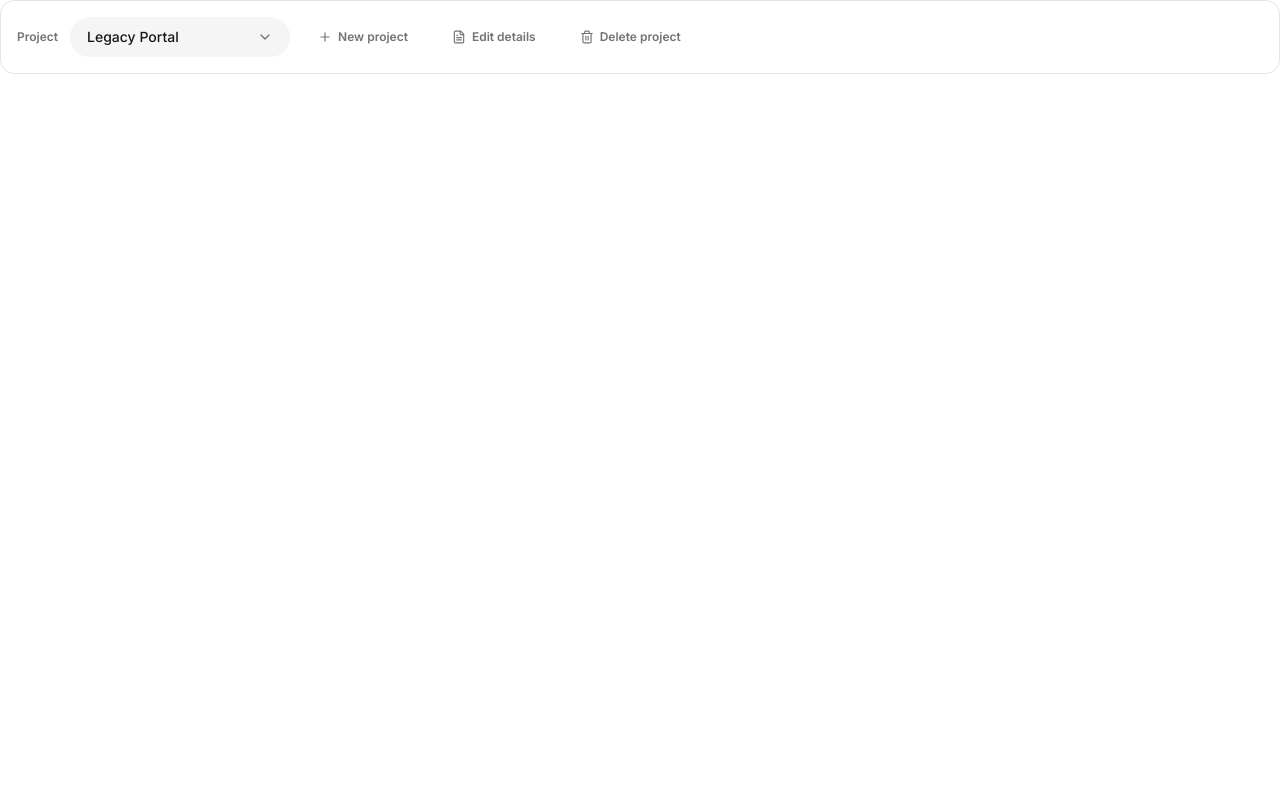
Test: ProjectPicker › deleting the open project › takes two presses, and the first one opens a confirmation popup that changes nothing yet
The width and height of the screenshot is (1280, 800).
Click the button "Delete project": (630, 37) [564, 19, 697, 55]
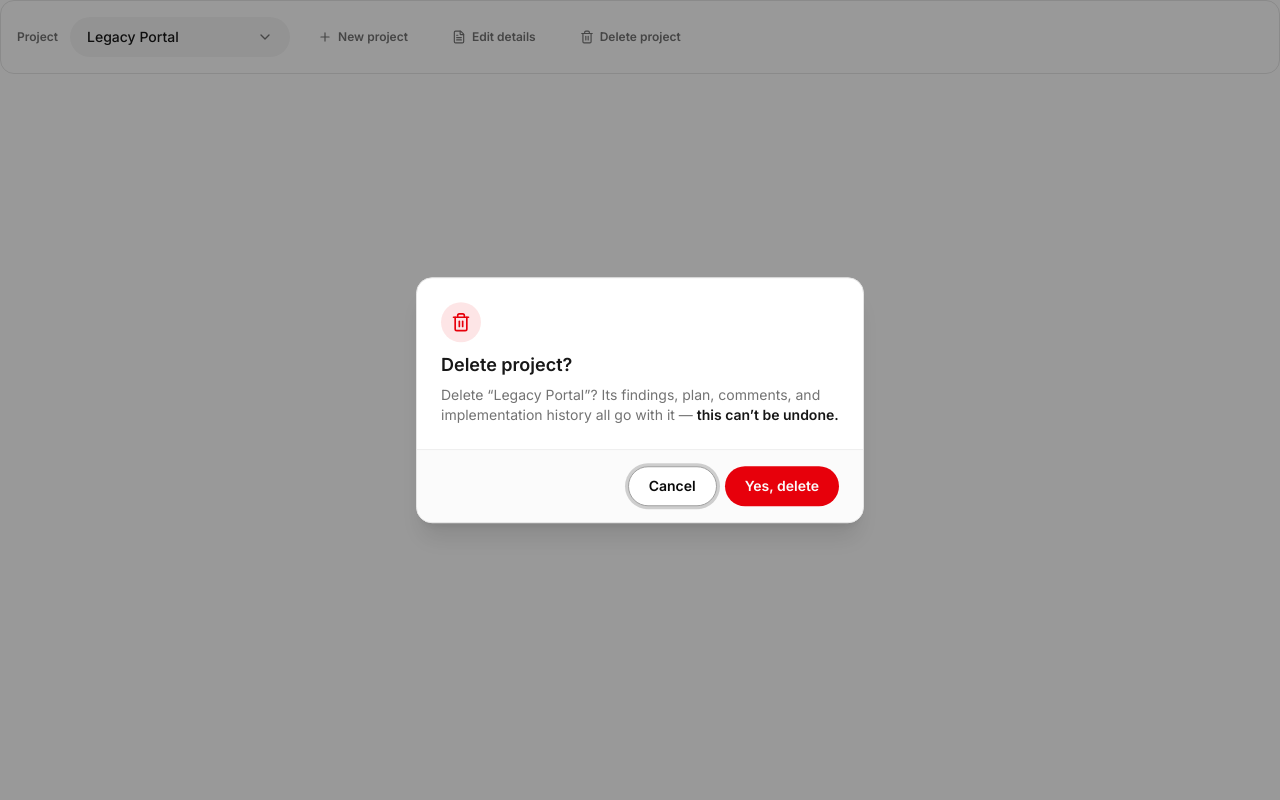
expect the dialog "Delete project?" is shown: met, box [416, 277, 864, 523]
expect the button "Yes, delete" is shown: met, box [725, 466, 839, 506]
expect the text "this can’t be undone." is shown: met, box [697, 406, 839, 423]
